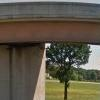Bridge: (5, 4, 98, 49)
